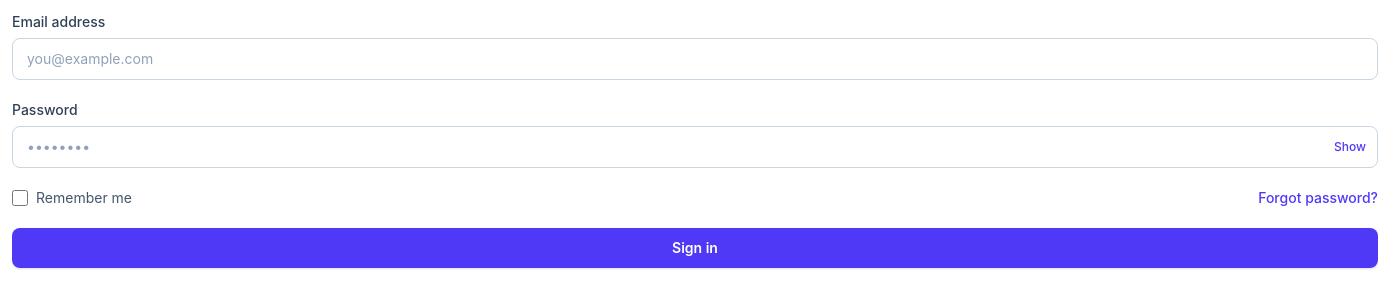
Test: LoginForm › toggles password visibility
Click the button with aria-label "Show password" at {"x": 1350, "y": 147}, box [1334, 139, 1366, 155]
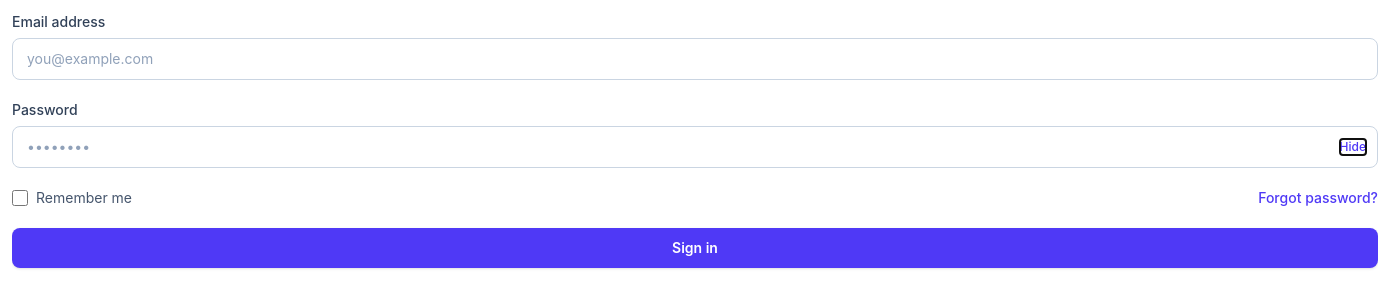
expect the button with aria-label "Hide password" is shown: met, box [1340, 139, 1366, 155]
